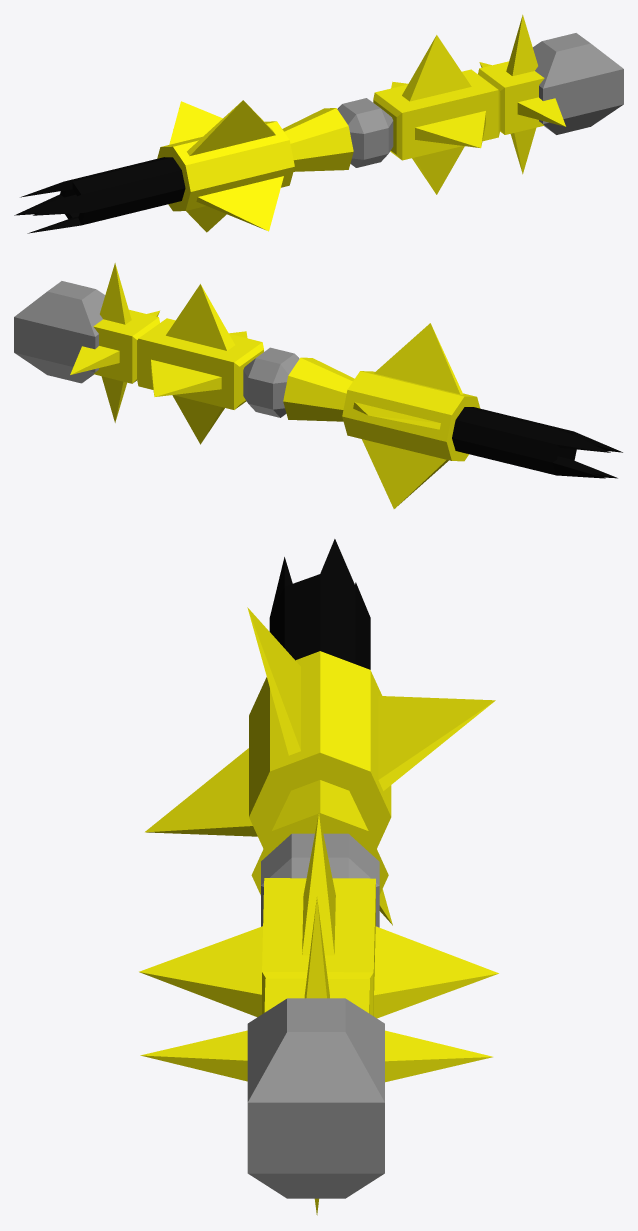
The model's file is Level2Arm (10).fbx.
3 views of the same model, one above another, from view 1: azimuth 30°, elevation 25°; view 2: azimuth 150°, elevation 25°; view 3: azimuth 270°, elevation 25° (orthographic). The views are drawn at different scales.
Visible parts, largest first — view 1: LeftGun.001; view 2: LeftGun.001; view 3: LeftGun.001.
Part boxes in pixels (x1=…): LeftGun.001: x1=14, y1=14, x2=623, y2=233; LeftGun.001: x1=14, y1=263, x2=622, y2=508; LeftGun.001: x1=139, y1=539, x2=498, y2=1215.
Bounding box in the file's own units: 66.73 × 249 × 65.47.
